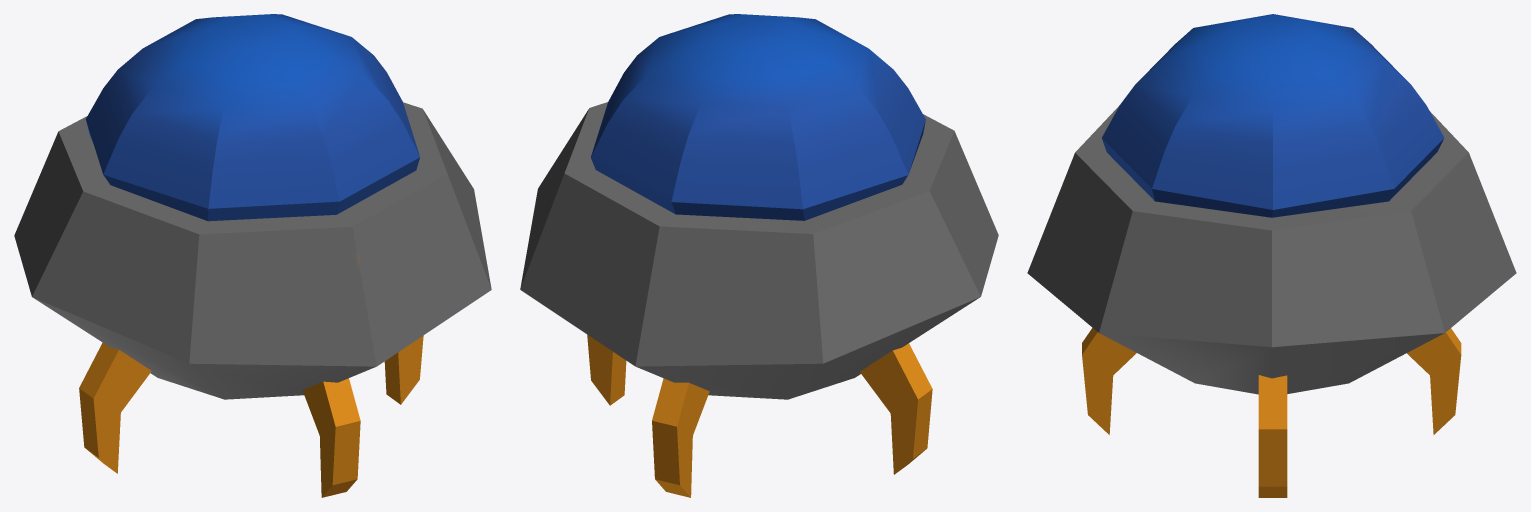
The model's file is Alivasion_OVNIS_Teleporter.fbx.
The picture shows the model from 3 angles, left to right: view 1: azimuth 30°, elevation 25°; view 2: azimuth 150°, elevation 25°; view 3: azimuth 270°, elevation 25°; orthographic projection.
Parts seen in each view (by area): view 1: OvniCrab; view 2: OvniCrab; view 3: OvniCrab.
Part boxes in pixels (left/top/right/bottom): OvniCrab: left=14, top=14, right=491, bottom=497; OvniCrab: left=520, top=14, right=998, bottom=497; OvniCrab: left=1027, top=14, right=1516, bottom=497.
Bounding box in the file's own units: 1979 × 1713 × 1919.
2 materials, 1 textured.
